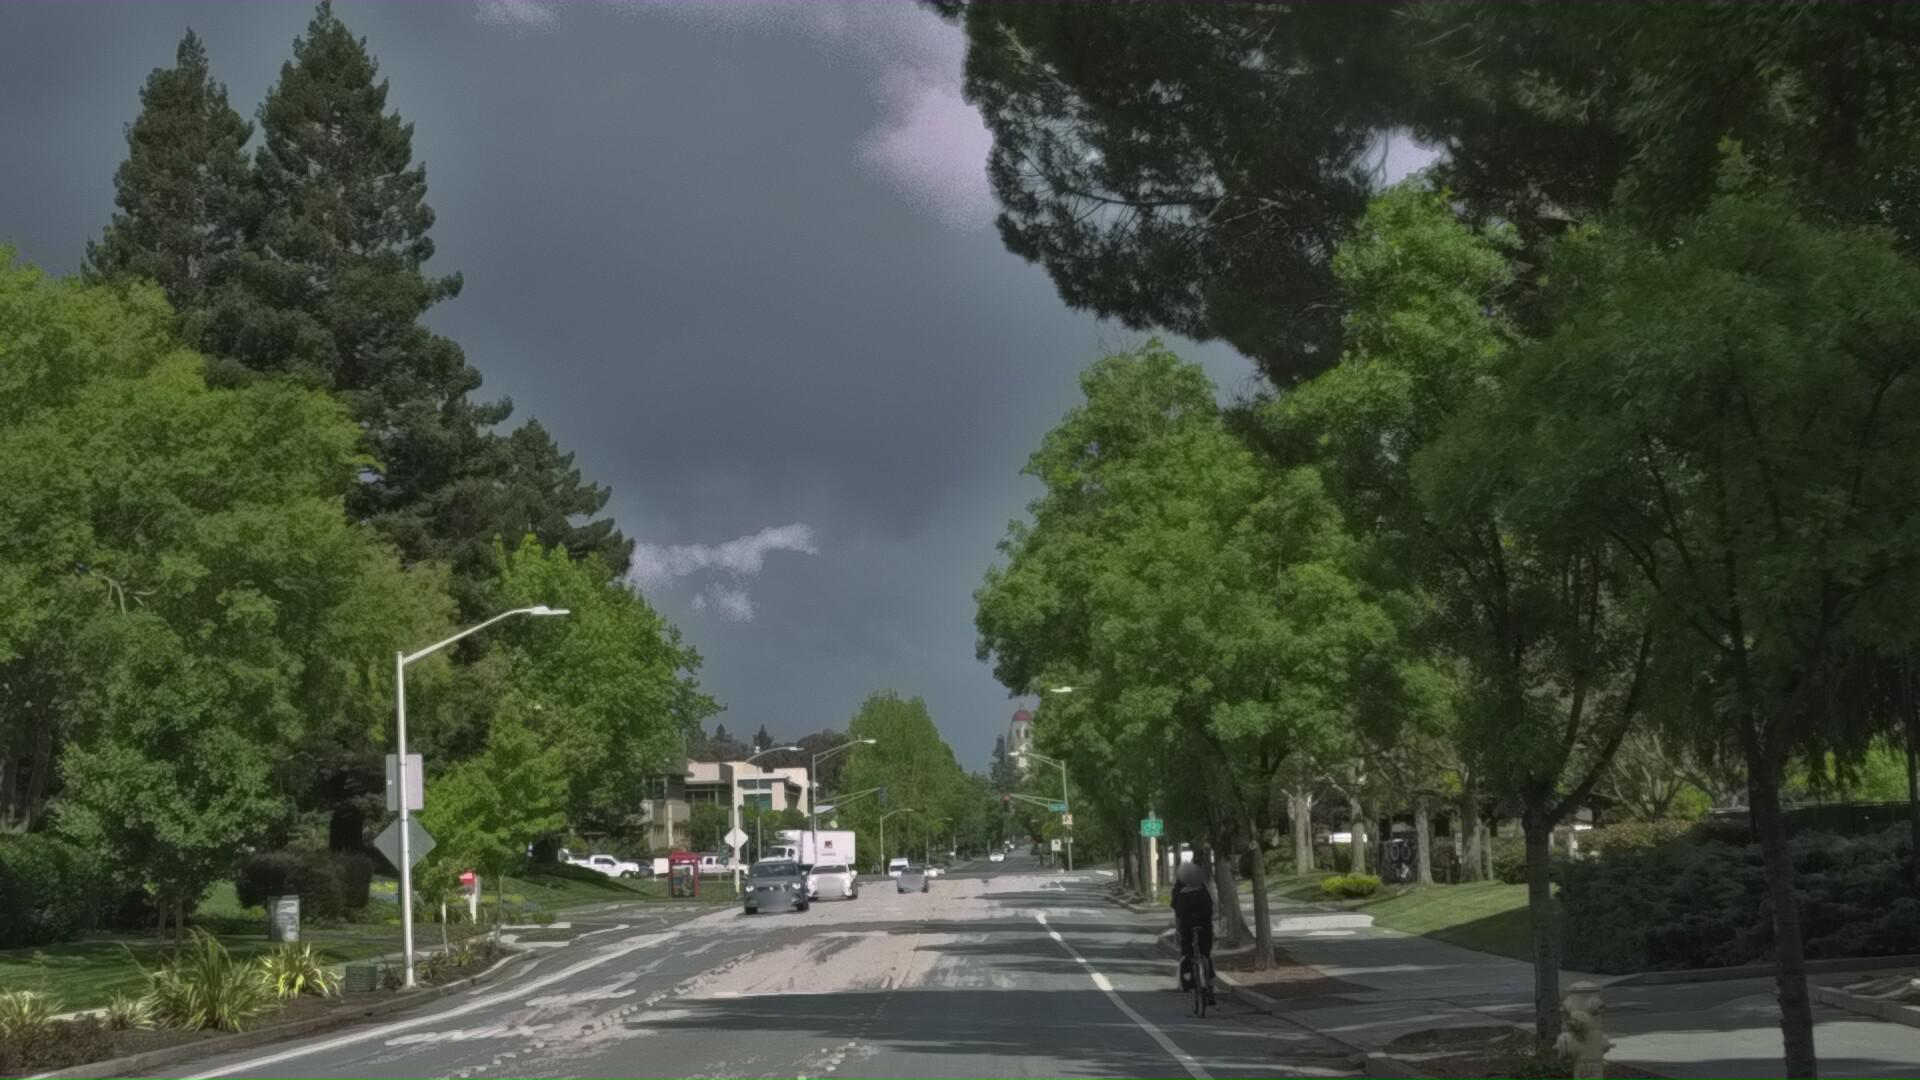bicycle: (1145, 945, 1240, 1080)
